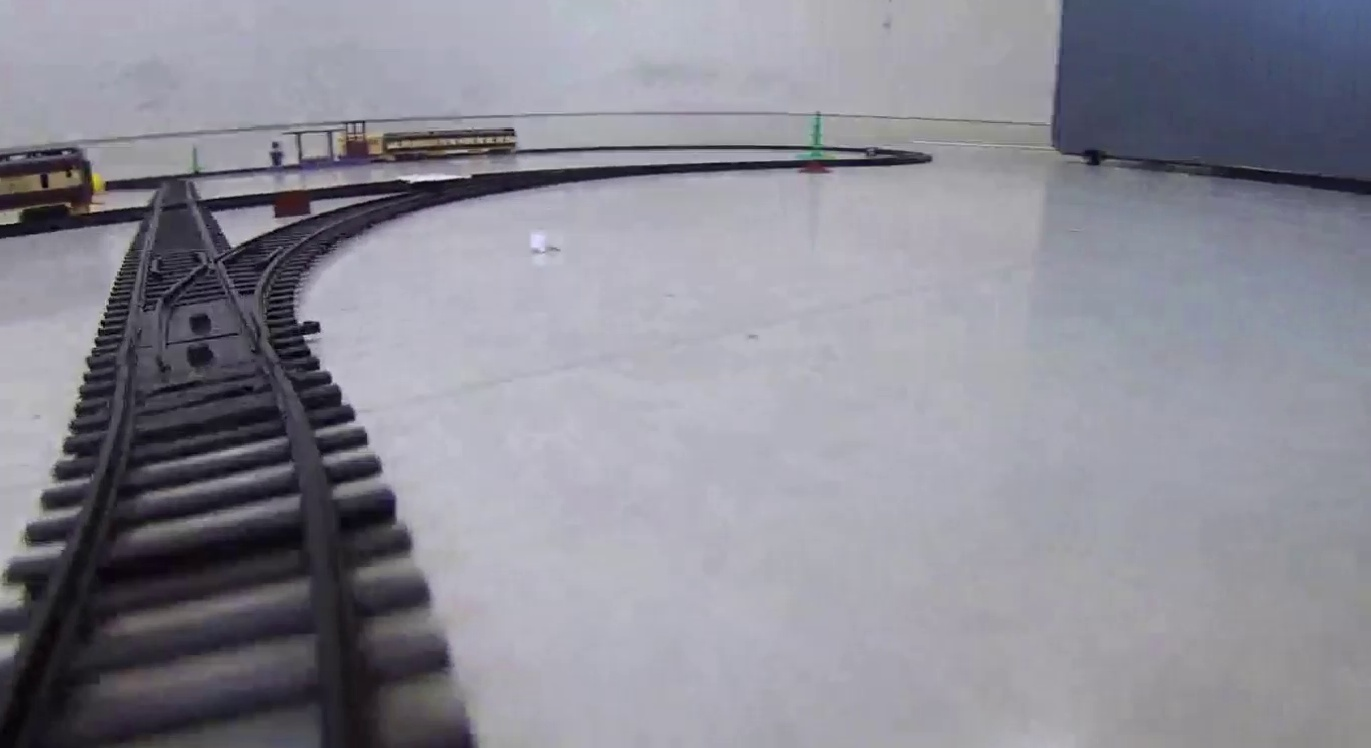box: (273, 189, 312, 217)
